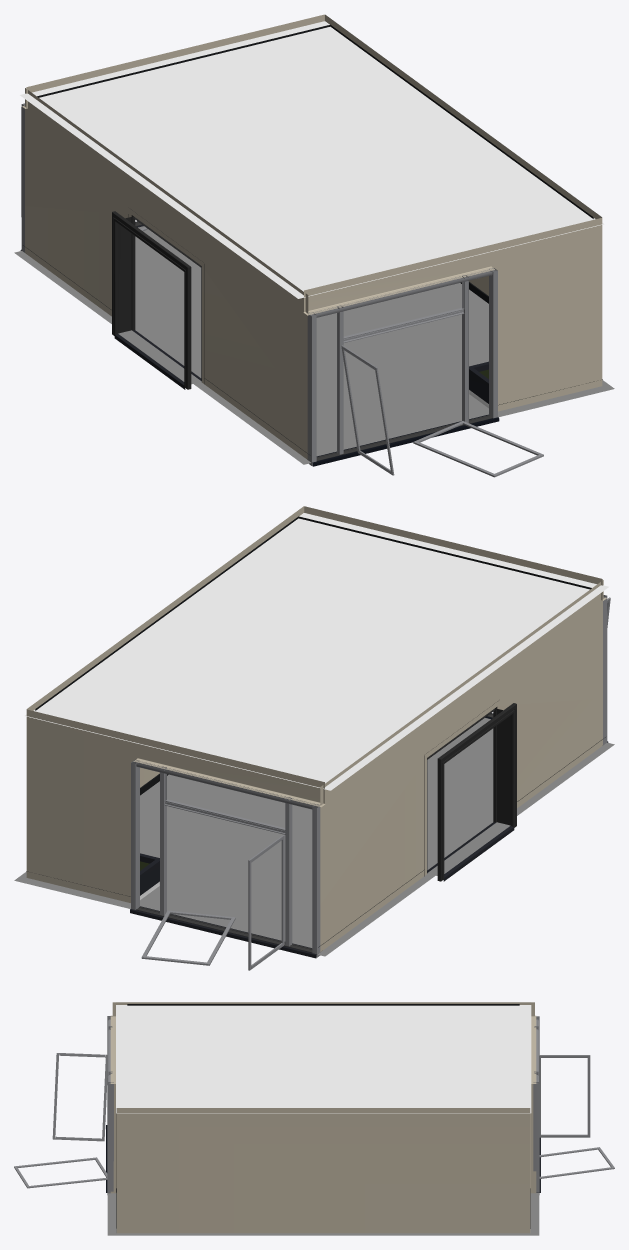
File: SM_H_Building_Tide_MedicalRoom_25_ATLAS.fbx
3 renders of one model, top to bottom at view 1: azimuth 30°, elevation 25°; view 2: azimuth 150°, elevation 25°; view 3: azimuth 270°, elevation 25°, orthographic. The views are drawn at different scales.
Parts seen in each view (by area): view 1: SM_H_Building_Tide_MedicalRoom_25_ATLAS; view 2: SM_H_Building_Tide_MedicalRoom_25_ATLAS; view 3: SM_H_Building_Tide_MedicalRoom_25_ATLAS.
Part boxes in pixels (x1,y1,x2,y2): SM_H_Building_Tide_MedicalRoom_25_ATLAS: (14, 14, 614, 477); SM_H_Building_Tide_MedicalRoom_25_ATLAS: (14, 506, 614, 970); SM_H_Building_Tide_MedicalRoom_25_ATLAS: (14, 1002, 614, 1235).
Size of the model in its own units: 729 by 1589 by 373.
